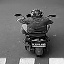mobil: (9, 3, 57, 56)
